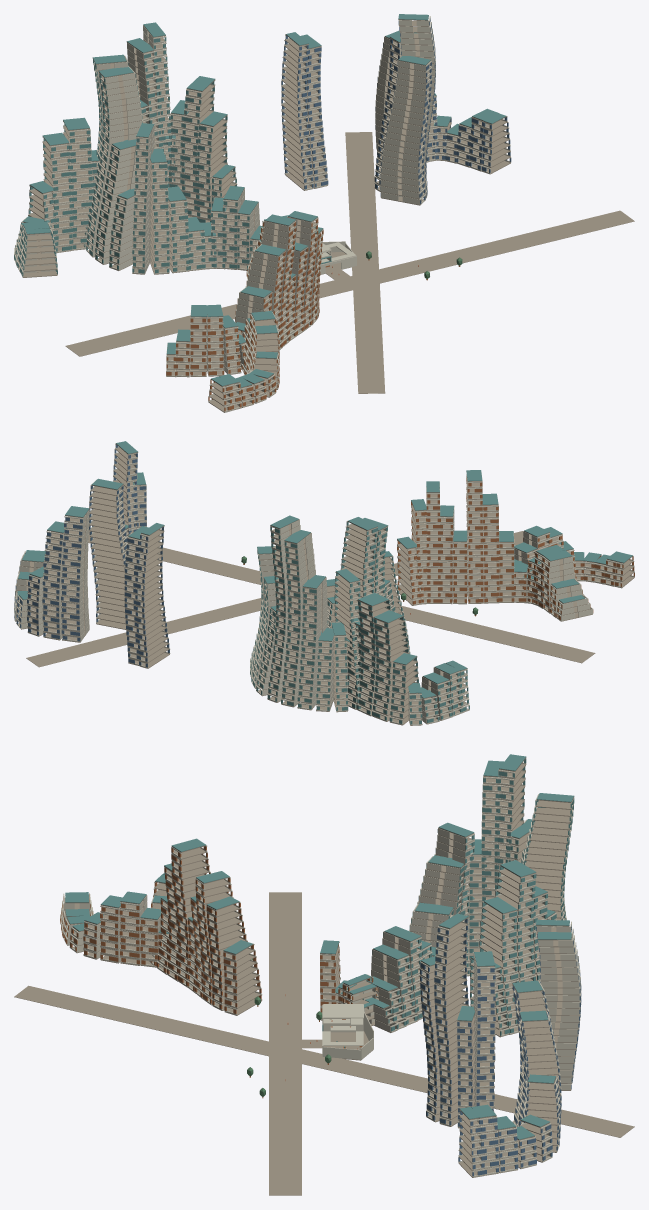
3 renders of one model, top to bottom at view 1: azimuth 30°, elevation 25°; view 2: azimuth 150°, elevation 25°; view 3: azimuth 270°, elevation 25°, orthographic. The views are drawn at different scales.
Parts seen in each view (by area): view 1: LIVING_ACTUAL_WINDOW_WALLS, CORE_MAKING_FLOOR, LIVING_DEEP_OCCUPIED_FLOORS, RESEARCH_ACTUAL_WINDOW_WALLS, MAKER_ACTUAL_WINDOW_WALLS, LIVING_OCCUPIED_FACADE_PANELS, RESEARCH_DEEP_OCCUPIED_FLOORS, LIVING_COURT_BRANCH_DEEP_OCCUPIED_FLOORS, MAKER_DEEP_OCCUPIED_FLOORS, LIVING_COURT_BRANCH_ACTUAL_WINDOW_WALLS, LIVING_COURT_ROOFS, MAKER_OCCUPIED_FACADE_PANELS (+13 smaller); view 2: LIVING_ACTUAL_WINDOW_WALLS, RESEARCH_DEEP_OCCUPIED_FLOORS, LIVING_DEEP_OCCUPIED_FLOORS, MAKER_ACTUAL_WINDOW_WALLS, MAKER_DEEP_OCCUPIED_FLOORS, CORE_MAKING_FLOOR, LIVING_OCCUPIED_FACADE_PANELS, RESEARCH_COURT_BRANCH_ACTUAL_WINDOW_WALLS, LIVING_COURT_BRANCH_ACTUAL_WINDOW_WALLS, LIVING_COURT_BRANCH_DEEP_OCCUPIED_FLOORS, MAKER_OCCUPIED_FACADE_PANELS, RESEARCH_ACTUAL_WINDOW_WALLS (+13 smaller); view 3: CORE_MAKING_FLOOR, LIVING_DEEP_OCCUPIED_FLOORS, LIVING_ACTUAL_WINDOW_WALLS, RESEARCH_ACTUAL_WINDOW_WALLS, RESEARCH_DEEP_OCCUPIED_FLOORS, MAKER_DEEP_OCCUPIED_FLOORS, RESEARCH_COURT_BRANCH_DEEP_OCCUPIED_FLOORS, LIVING_OCCUPIED_FACADE_PANELS, MAKER_ACTUAL_WINDOW_WALLS, MAKER_OCCUPIED_FACADE_PANELS, LIVING_COURT_ROOFS, RESEARCH_OCCUPIED_FACADE_PANELS (+9 smaller).
Boxes of the visible parts, bbox=[...] form: LIVING_ACTUAL_WINDOW_WALLS: bbox=[83, 25, 260, 274]; CORE_MAKING_FLOOR: bbox=[65, 132, 634, 393]; LIVING_DEEP_OCCUPIED_FLOORS: bbox=[87, 25, 259, 274]; RESEARCH_ACTUAL_WINDOW_WALLS: bbox=[281, 16, 435, 204]; MAKER_ACTUAL_WINDOW_WALLS: bbox=[166, 216, 323, 376]; LIVING_OCCUPIED_FACADE_PANELS: bbox=[84, 37, 252, 273]; RESEARCH_DEEP_OCCUPIED_FLOORS: bbox=[281, 16, 434, 205]; LIVING_COURT_BRANCH_DEEP_OCCUPIED_FLOORS: bbox=[15, 120, 103, 277]; MAKER_DEEP_OCCUPIED_FLOORS: bbox=[166, 216, 322, 377]; LIVING_COURT_BRANCH_ACTUAL_WINDOW_WALLS: bbox=[14, 121, 102, 277]; LIVING_COURT_ROOFS: bbox=[92, 22, 263, 239]; MAKER_OCCUPIED_FACADE_PANELS: bbox=[166, 219, 323, 375]; LIVING_ACTUAL_WINDOW_WALLS: bbox=[250, 519, 410, 711]; RESEARCH_DEEP_OCCUPIED_FLOORS: bbox=[89, 444, 169, 668]; LIVING_DEEP_OCCUPIED_FLOORS: bbox=[252, 519, 408, 712]; MAKER_ACTUAL_WINDOW_WALLS: bbox=[344, 472, 593, 621]; MAKER_DEEP_OCCUPIED_FLOORS: bbox=[345, 476, 592, 621]; CORE_MAKING_FLOOR: bbox=[26, 530, 595, 667]; LIVING_OCCUPIED_FACADE_PANELS: bbox=[250, 522, 410, 710]; RESEARCH_COURT_BRANCH_ACTUAL_WINDOW_WALLS: bbox=[14, 509, 89, 642]; LIVING_COURT_BRANCH_ACTUAL_WINDOW_WALLS: bbox=[334, 596, 469, 725]; LIVING_COURT_BRANCH_DEEP_OCCUPIED_FLOORS: bbox=[347, 600, 469, 725]; MAKER_OCCUPIED_FACADE_PANELS: bbox=[397, 478, 593, 619]; RESEARCH_ACTUAL_WINDOW_WALLS: bbox=[89, 443, 170, 668]; CORE_MAKING_FLOOR: bbox=[14, 892, 634, 1195]; LIVING_DEEP_OCCUPIED_FLOORS: bbox=[371, 757, 574, 1037]; LIVING_ACTUAL_WINDOW_WALLS: bbox=[366, 758, 574, 1036]; RESEARCH_ACTUAL_WINDOW_WALLS: bbox=[420, 918, 581, 1127]; RESEARCH_DEEP_OCCUPIED_FLOORS: bbox=[420, 917, 580, 1128]; MAKER_DEEP_OCCUPIED_FLOORS: bbox=[152, 845, 377, 1025]; RESEARCH_COURT_BRANCH_DEEP_OCCUPIED_FLOORS: bbox=[458, 984, 560, 1177]; LIVING_OCCUPIED_FACADE_PANELS: bbox=[372, 759, 574, 1035]; MAKER_ACTUAL_WINDOW_WALLS: bbox=[149, 845, 378, 1022]; MAKER_OCCUPIED_FACADE_PANELS: bbox=[150, 846, 378, 1018]; LIVING_COURT_ROOFS: bbox=[362, 754, 573, 1008]; RESEARCH_OCCUPIED_FACADE_PANELS: bbox=[420, 919, 581, 1126].
Size of the model in its own units: 570 by 181 by 494.
